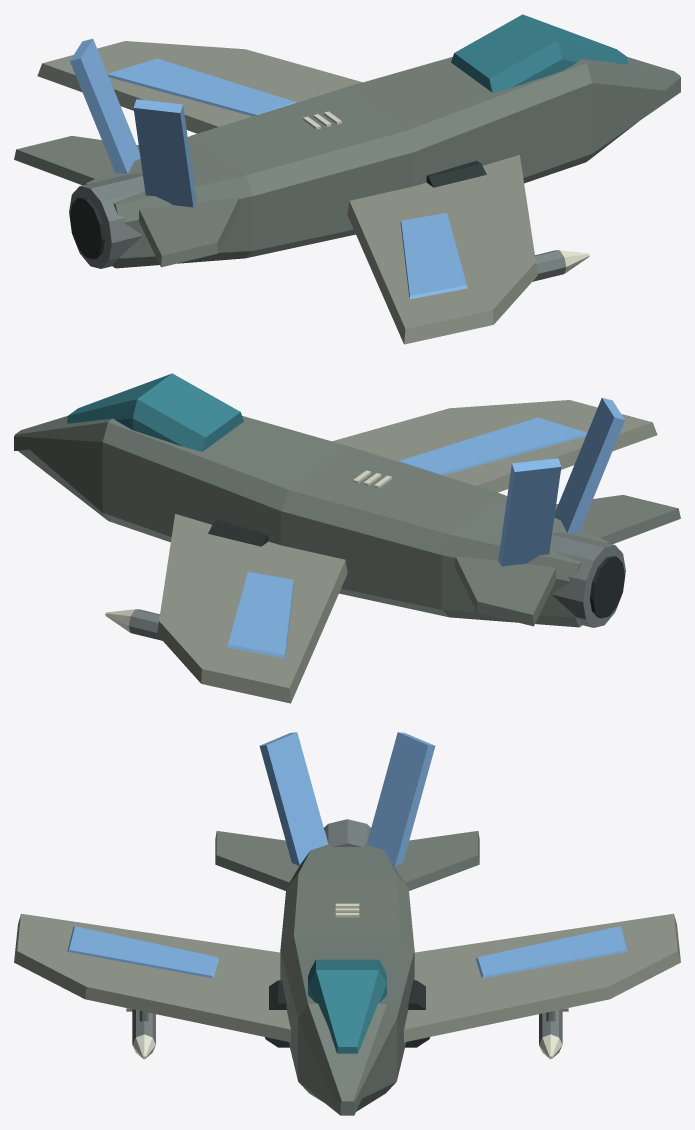
The model's file is vantage.glb.
3 renders of one model, top to bottom at view 1: azimuth 30°, elevation 25°; view 2: azimuth 150°, elevation 25°; view 3: azimuth 270°, elevation 25°, orthographic. The views are drawn at different scales.
Parts seen in each view (by area): view 1: coalition_vantage; view 2: coalition_vantage; view 3: coalition_vantage.
Boxes of the visible parts, left/top/right/bottom form: coalition_vantage: left=14, top=14, right=680, bottom=344; coalition_vantage: left=14, top=373, right=680, bottom=703; coalition_vantage: left=14, top=732, right=680, bottom=1115.
Bounding box in the file's own units: 3.11 × 1.01 × 3.38.
